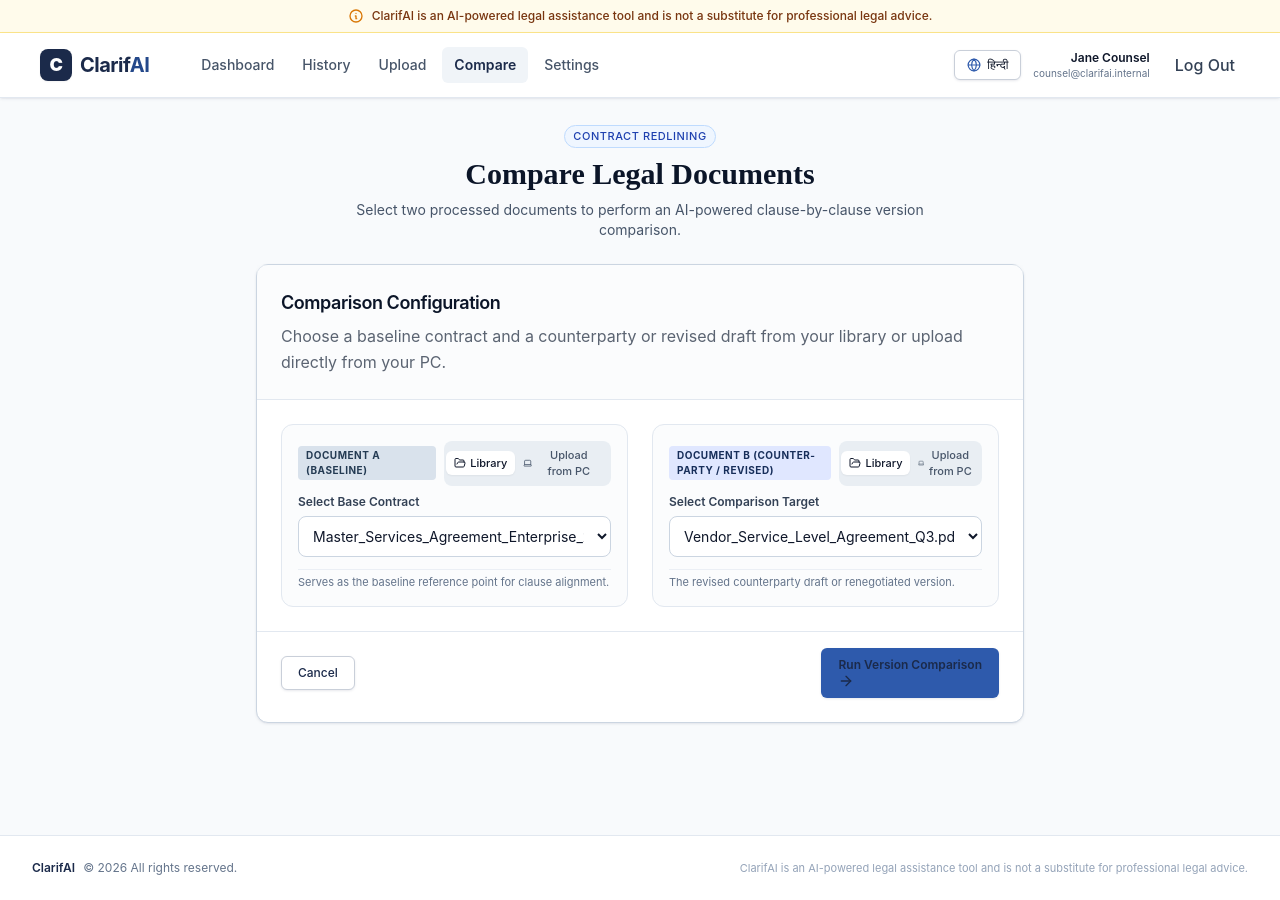
Scenario: Comparison Pages (PRD Ch. 18, 22.10 & Section 8.5) › ComparisonSetupPage (/compare) › disallows selecting the same document twice client-side and disables initiate button
Select same document on both sides
Step 1. Select "Master_Services_Agreement_Enterprise_2026.pdf" in the dropdown labelled "Select Base Contract" → (454, 536), box [298, 516, 611, 556]
Step 2. Select "Master_Services_Agreement_Enterprise_2026.pdf" in the dropdown labelled "Select Comparison Target" → (826, 536), box [669, 516, 982, 556]
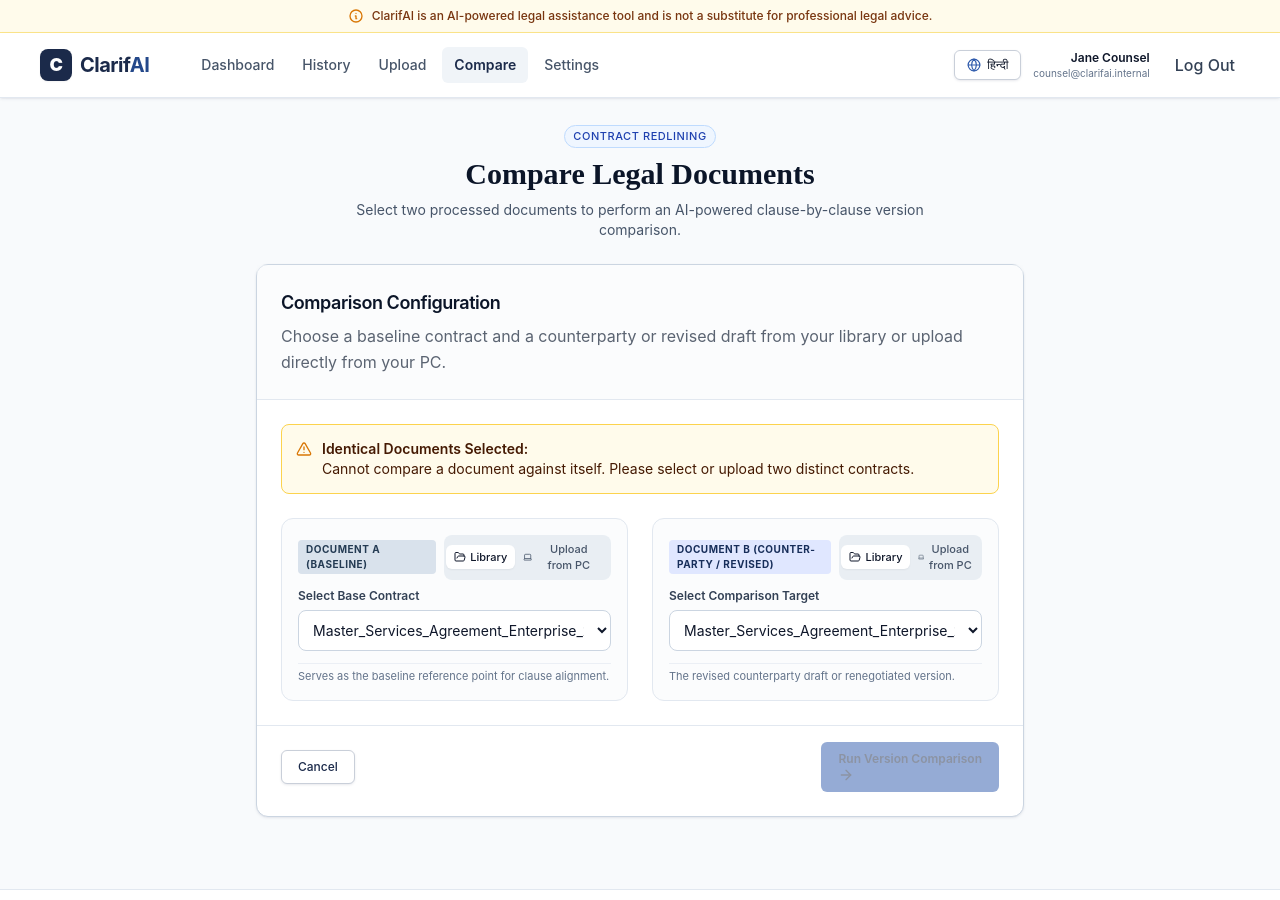
Result: the message with test id "same-document-warning" is shown at [281, 424, 999, 494]
Result: the text "Cannot compare a document against itself" is shown at [322, 460, 914, 476]
Result: the button "Run Version Comparison" is disabled at [822, 742, 999, 792]
